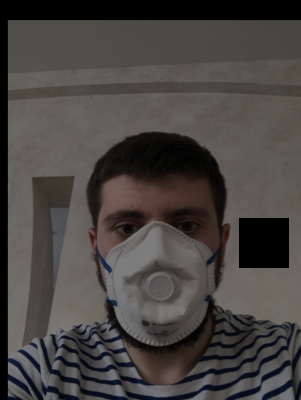with_mask: (96, 197, 219, 353)
